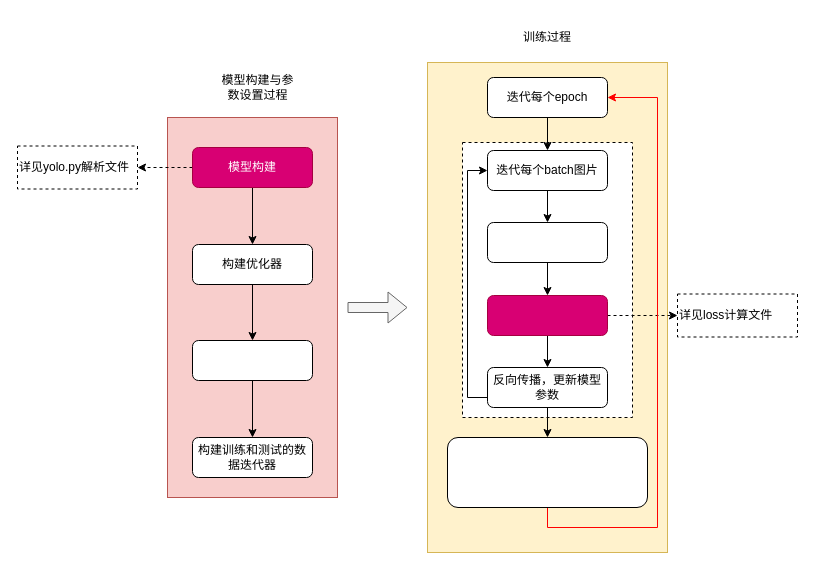
The diagram is 815 pixels wide and 570 high, and some of its shapes have lost their labels. Here are the shapes that lost their labels. From the top down, the centre of each, then its label:
the point at 547,242: 将图片输入模型得到3个yolo层的输出值
the point at 547,315: 计算loss
the point at 252,360: 配置学习率以及分布式训练等参数
the point at 547,472: 每迭代完一个epoch就会保存模型为last，如果模型得到的mAP比以前的高，将这个epoch模型保存为best
